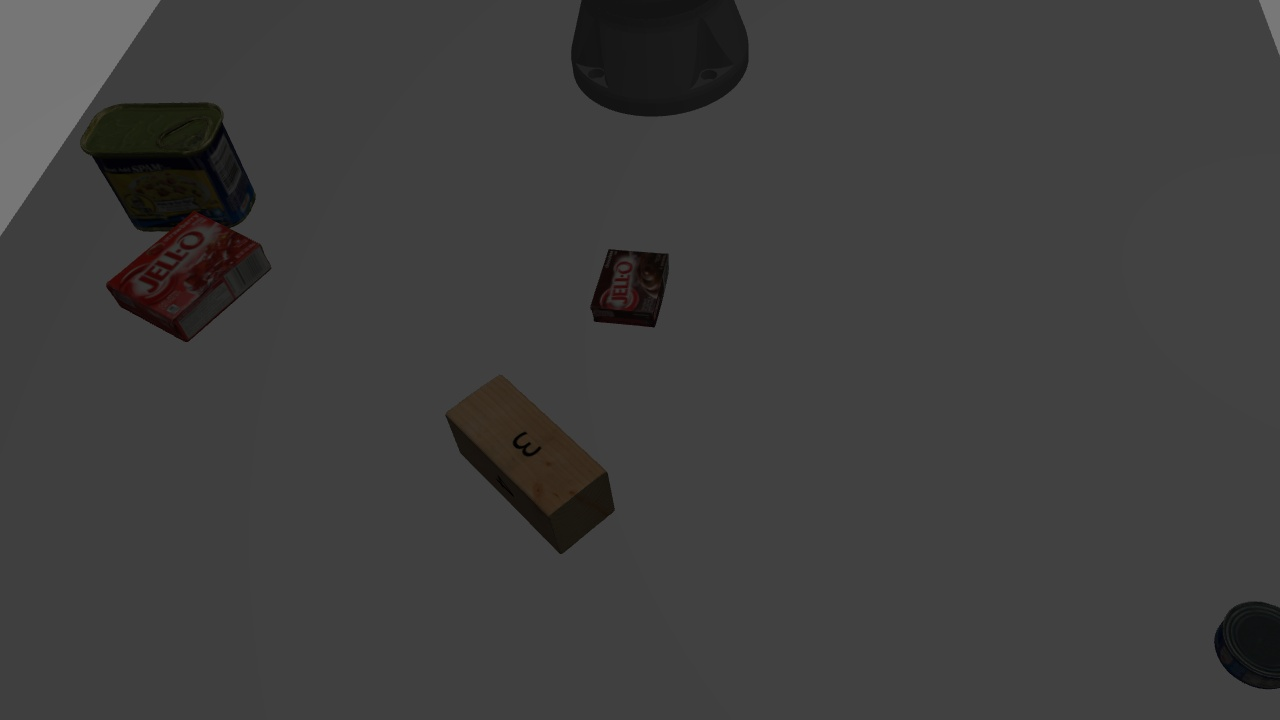gelatin_box: (110, 225, 273, 332)
potted_meat_can: (78, 100, 259, 234)
pudding_box: (587, 245, 672, 333)
tuna_fish_can: (1212, 597, 1272, 689)
wood_block: (443, 365, 621, 562)
